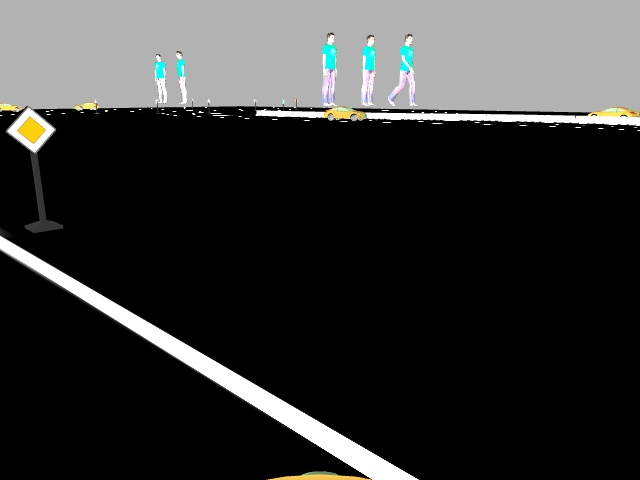Priority: (8, 104, 59, 152)
